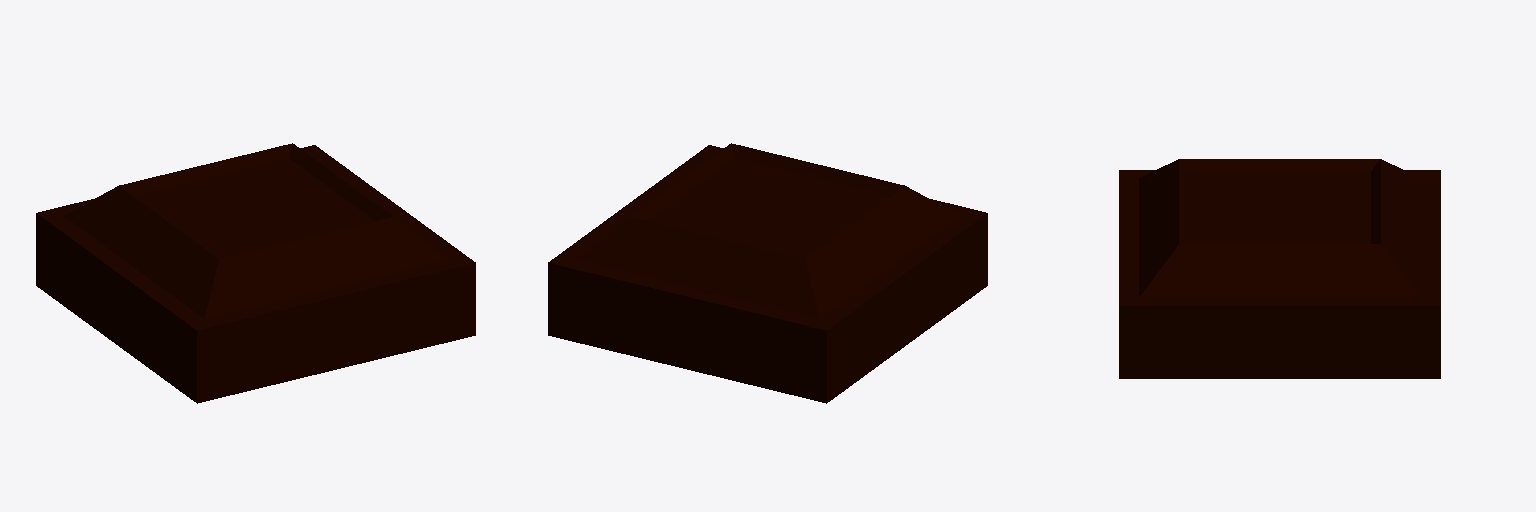
Rendered from DarkChocolate.obj.
3 renders of one model, left to right at view 1: azimuth 30°, elevation 25°; view 2: azimuth 150°, elevation 25°; view 3: azimuth 270°, elevation 25°, orthographic.
Visible parts, largest first — view 1: Union1; view 2: Union1; view 3: Union1.
Part boxes in pixels (x1,y1,x2,y2): Union1: (36, 143, 475, 403); Union1: (548, 143, 987, 403); Union1: (1119, 159, 1440, 378).
Bounding box in the file's own units: 4 × 1.5 × 4.